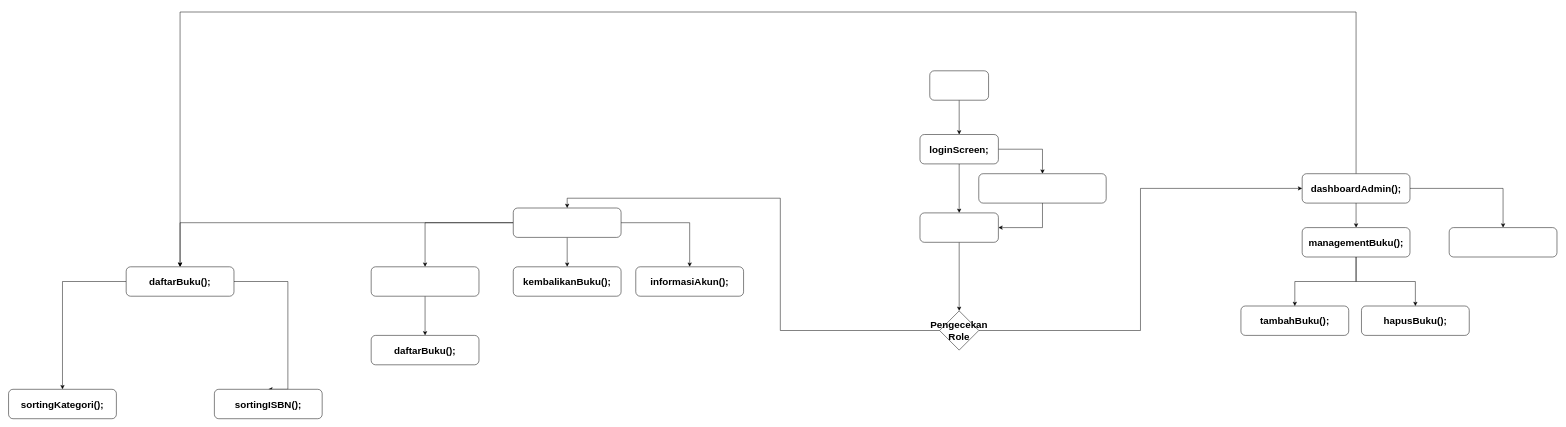
Some shapes in this 1566 by 427 pixel diagram are drawn without their labels. The box of each missing label's shape, as (x1, y1, x2, y2) in pixels:
createAccountMember();: (978, 173, 1106, 203)
dashboardMember();: (513, 208, 621, 237)
login();: (919, 212, 998, 242)
main();: (929, 70, 989, 100)
pinjamBuku();: (371, 266, 479, 296)
statistik();: (1449, 227, 1557, 257)
